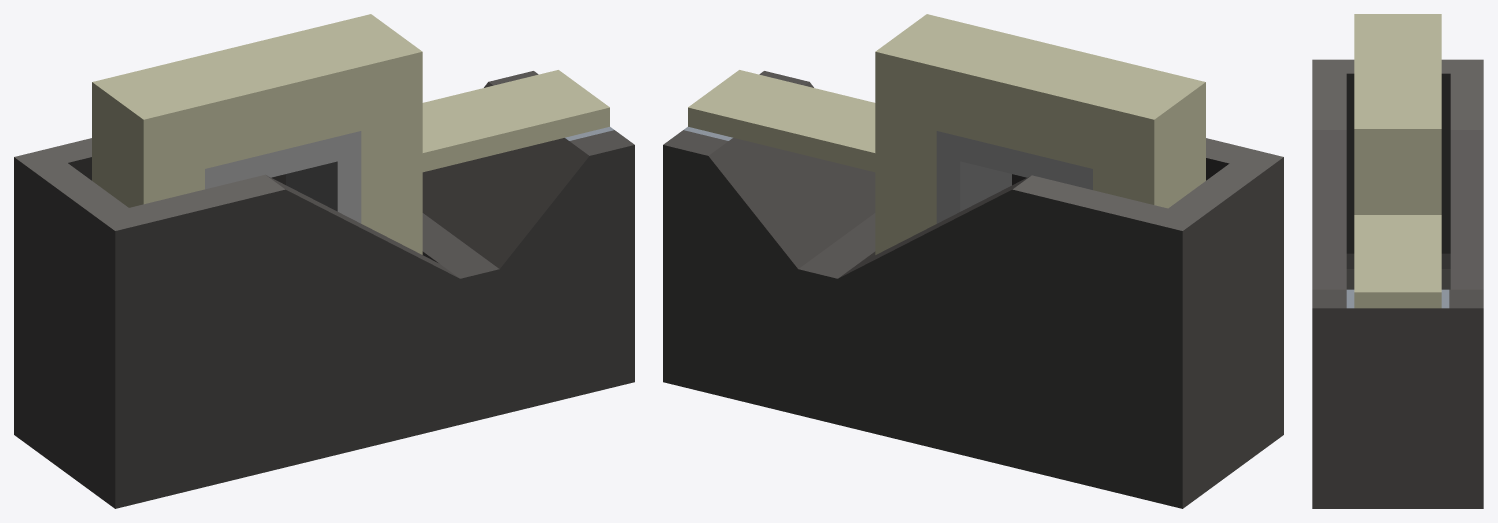
The model's file is SO_SellotapeDispenser_02.fbx.
3 renders of one model, left to right at view 1: azimuth 30°, elevation 25°; view 2: azimuth 150°, elevation 25°; view 3: azimuth 270°, elevation 25°, orthographic. The views are drawn at different scales.
Parts seen in each view (by area): view 1: SO_SellotapeDispenser_02; view 2: SO_SellotapeDispenser_02; view 3: SO_SellotapeDispenser_02.
Boxes of the visible parts, <box> form: SO_SellotapeDispenser_02: <box>14,14,634,508</box>; SO_SellotapeDispenser_02: <box>663,14,1283,508</box>; SO_SellotapeDispenser_02: <box>1312,14,1483,508</box>.
Size of the model in its own units: 0.2954 by 0.1945 by 0.0997.
